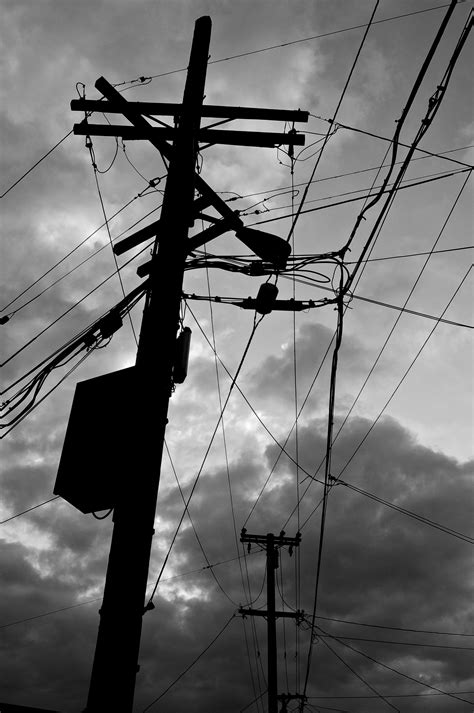pole: (7, 4, 457, 713)
